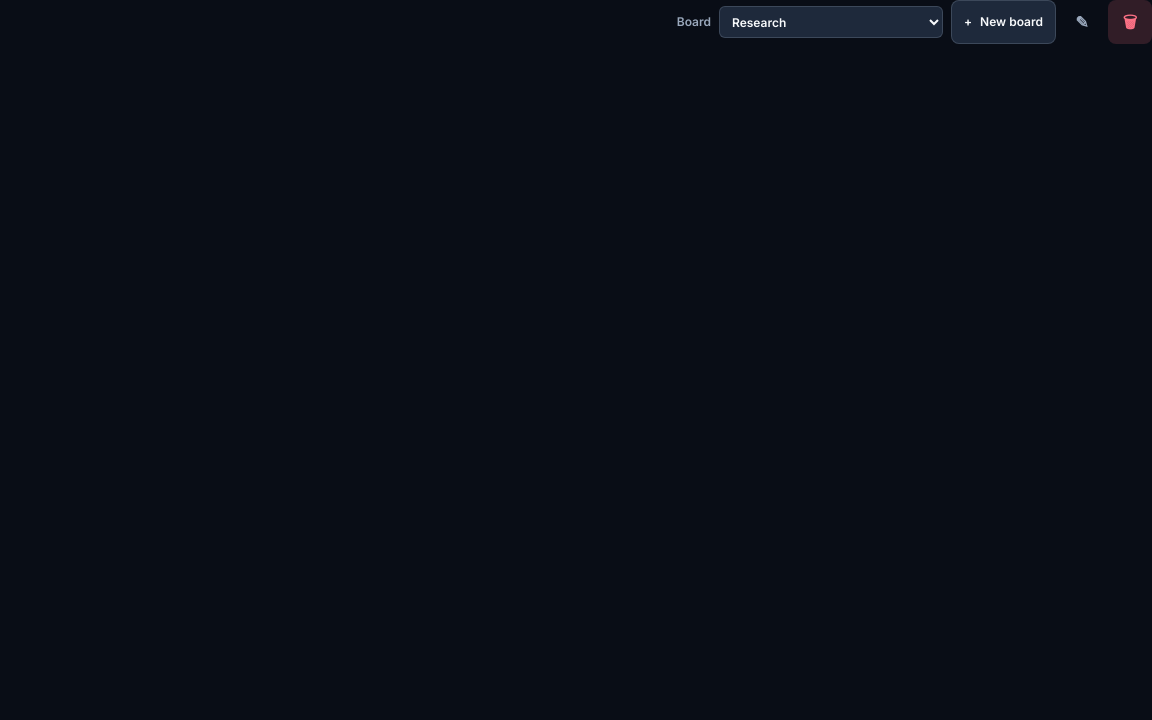
Test: BoardToolbar › confirms deletion and reports rejected mutations
The image size is (1152, 720).
Click the button named "Delete board" at (1130, 22), box [1108, 0, 1151, 44]
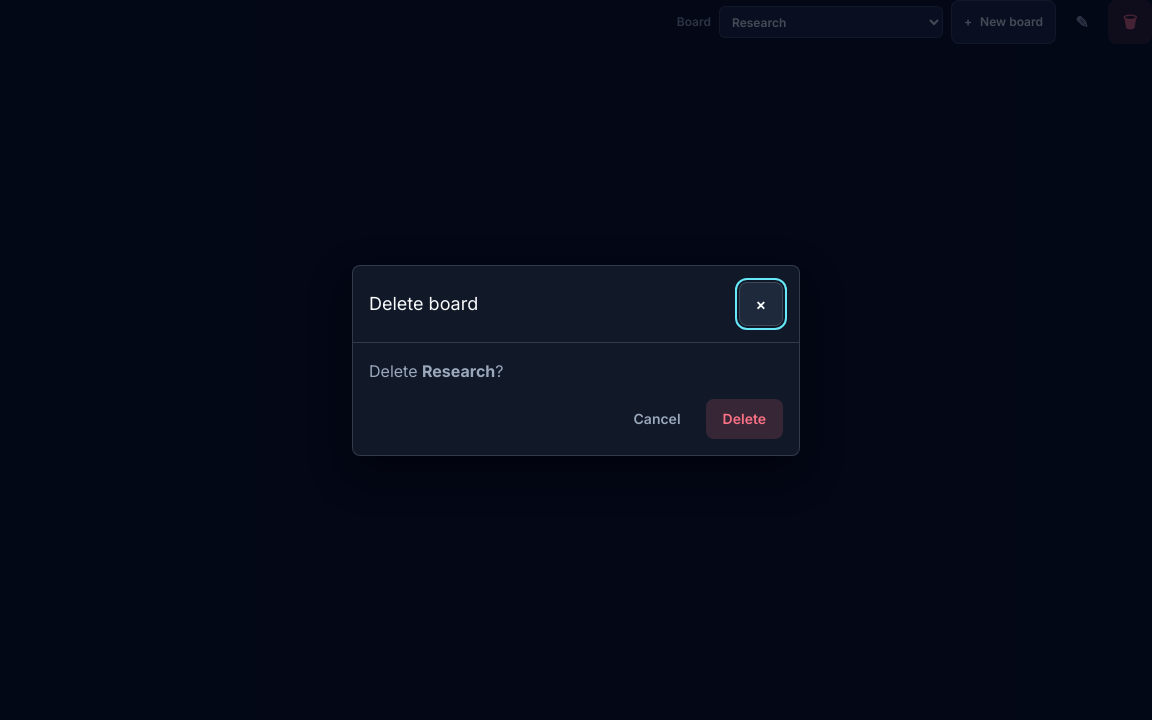
Expected: the dialog "Delete board" shows "Delete Research?", [352, 264, 800, 456]
Click the button "Delete" at (744, 418), box [706, 398, 783, 438]
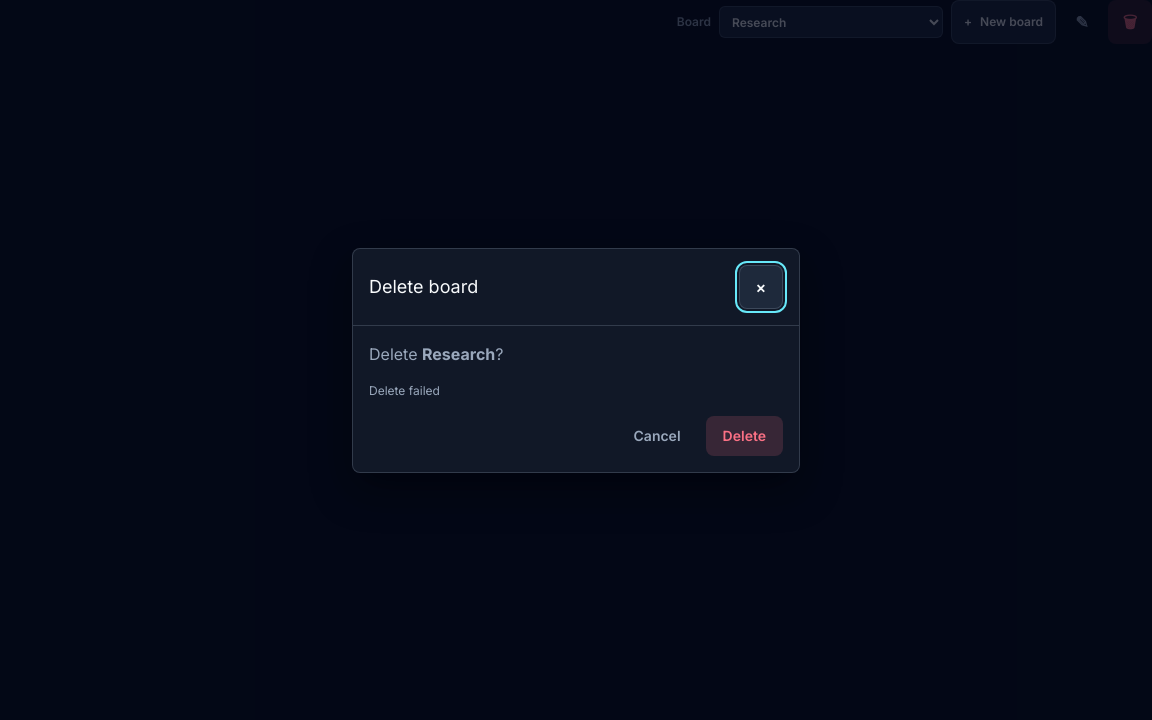
Expected: the message reads "Delete failed", [369, 382, 440, 398]
